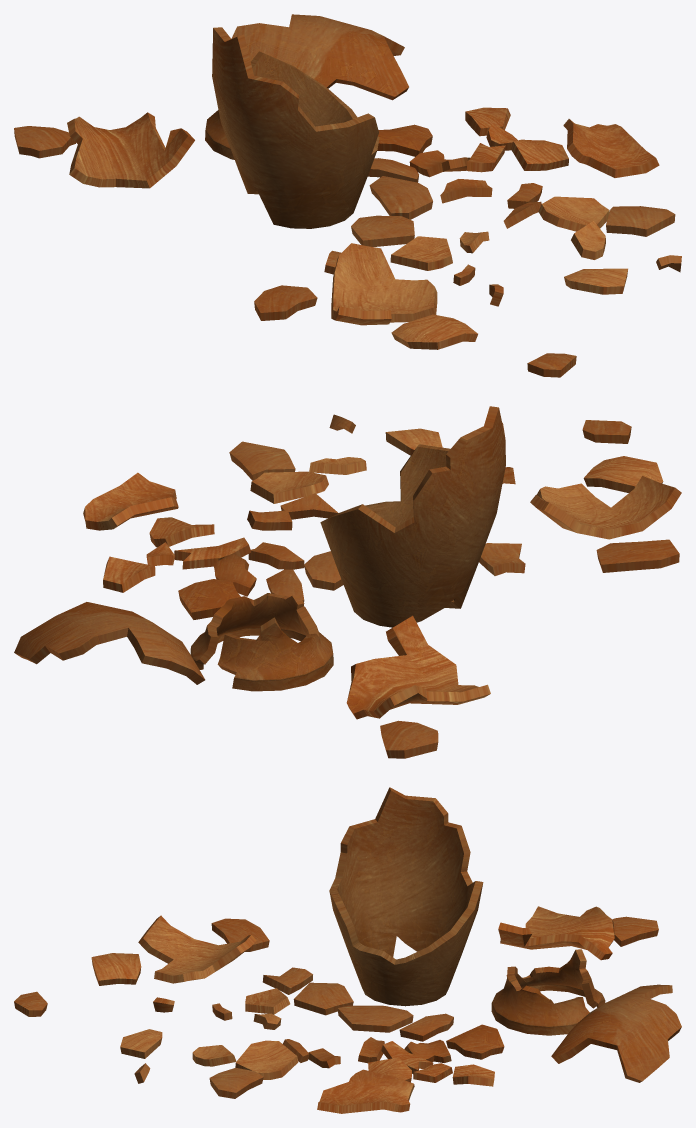
Rendered from SM_BrokenVase.glb.
3 renders of one model, top to bottom at view 1: azimuth 30°, elevation 25°; view 2: azimuth 150°, elevation 25°; view 3: azimuth 270°, elevation 25°, orthographic. The views are drawn at different scales.
Parts seen in each view (by area): view 1: SM_BrokenVase_LOD0; view 2: SM_BrokenVase_LOD0; view 3: SM_BrokenVase_LOD0.
Boxes of the visible parts, box(x1,y1,x2,y2) form: SM_BrokenVase_LOD0: box(14, 14, 681, 377); SM_BrokenVase_LOD0: box(14, 406, 681, 758); SM_BrokenVase_LOD0: box(14, 787, 681, 1113).
Bounding box in the file's own units: 0.8069 × 0.3432 × 1.17.
Materials: 1 (1 with a texture image).
